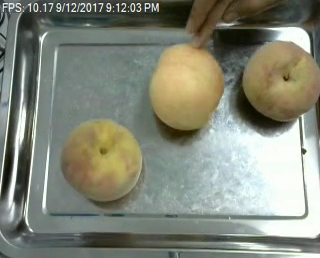Peach: (60, 117, 142, 202), (149, 43, 223, 130), (242, 39, 320, 121)
